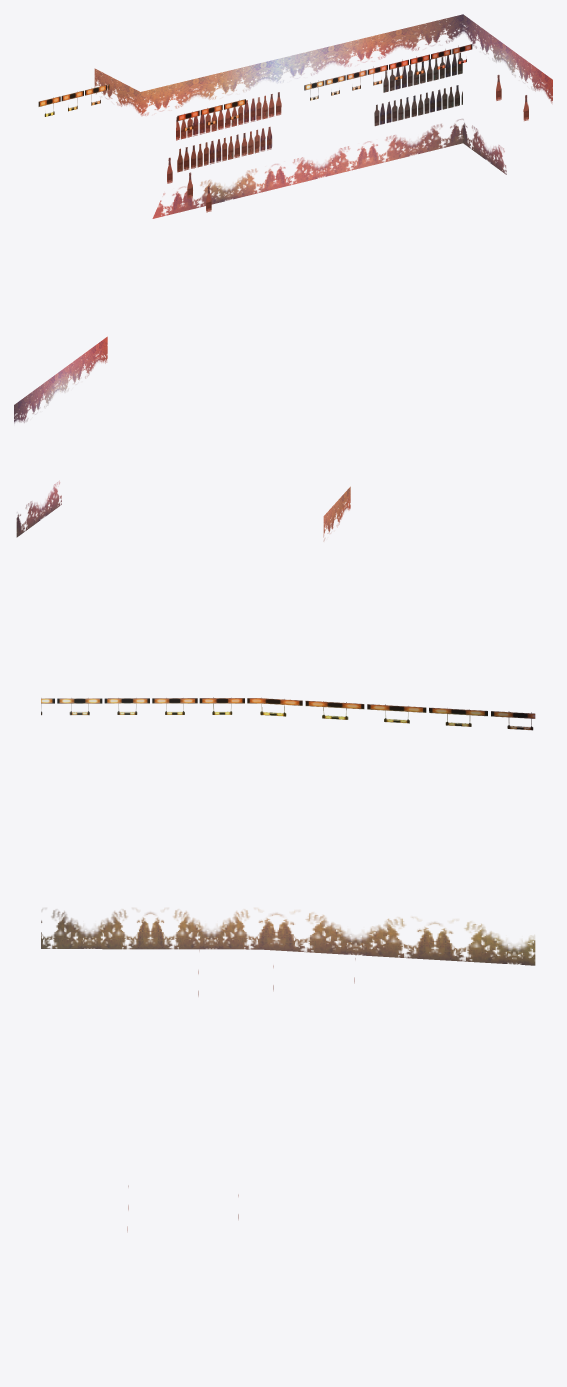
File: bar4.glb
3 renders of one model, top to bottom at view 1: azimuth 30°, elevation 25°; view 2: azimuth 150°, elevation 25°; view 3: azimuth 270°, elevation 25°, orthographic. The views are drawn at different scales.
Visible parts, largest first — view 1: Plane3; view 2: Plane3; view 3: Plane3.
Part boxes in pixels (x1=…): Plane3: x1=38, y1=14, x2=552, y2=218; Plane3: x1=14, y1=336, x2=350, y2=541; Plane3: x1=41, y1=697, x2=535, y2=1231.
Size of what is drawn, in the model's own units: 13.84 by 3.97 by 7.02.
Materials: 4 (4 with a texture image).
